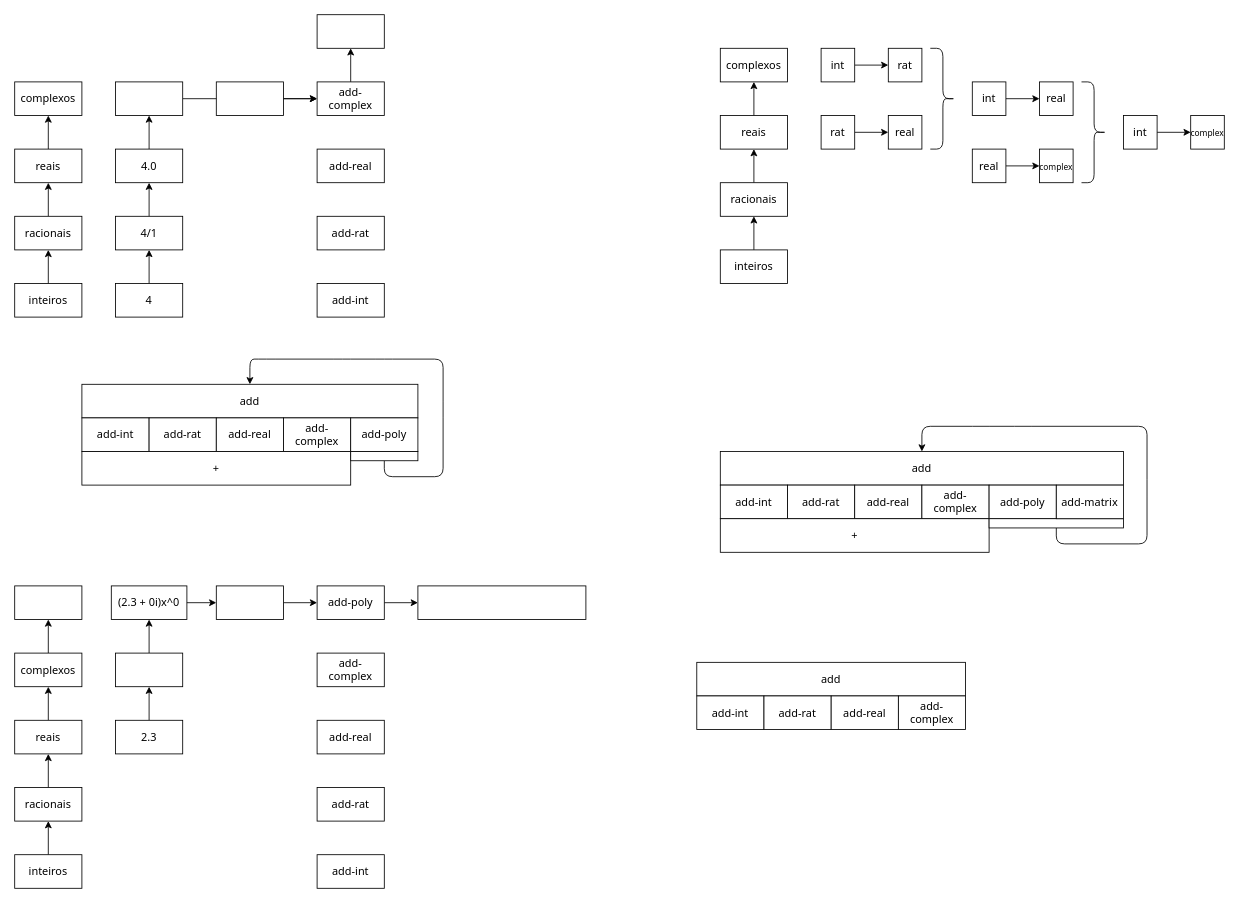
This 1239x903 diagram has some shape labels left out. Here are the shapes that lost their labels. From the top down, the centre of each, then its label:
the point at 350,31: 9.2 + 2.0i
the point at 149,98: 4.0 + 0i
the point at 249,98: 5.2 + 2.0i
the point at 48,602: polinômios
the point at 249,602: 2x^1 + 3x^5
the point at 501,602: (2.3 + 0i)x^0 + 2x^1 + 3x^5
the point at 149,669: 2.3 + 0i
